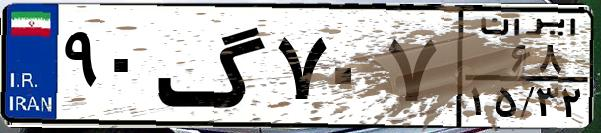0: (330, 28, 385, 110), (110, 28, 156, 98)
1: (470, 70, 495, 125)
2: (560, 70, 590, 125)
3: (535, 70, 560, 125)
5: (495, 70, 520, 125)
6: (508, 27, 537, 80)
7: (270, 28, 330, 110), (385, 28, 445, 110)
8: (537, 27, 568, 80)
9: (57, 26, 110, 100)
گ: (156, 12, 270, 120)
